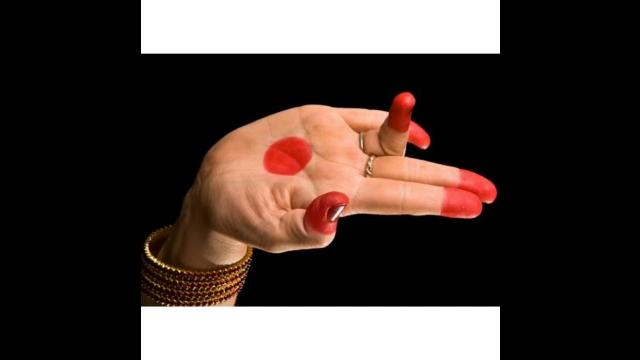tripataka: (140, 93, 495, 307)
